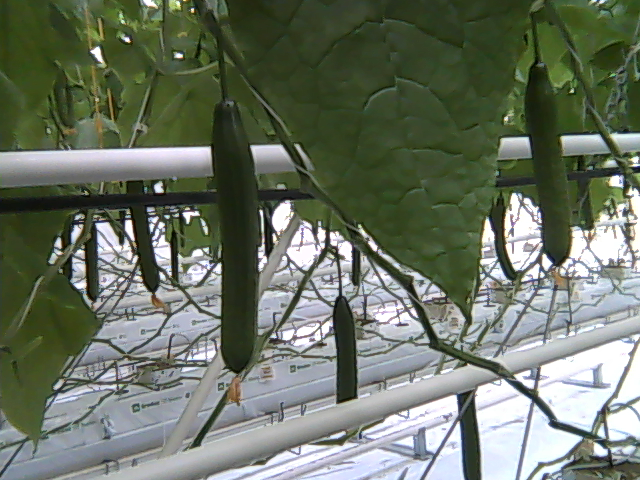concombre: (208, 75, 263, 407), (521, 49, 575, 291)
